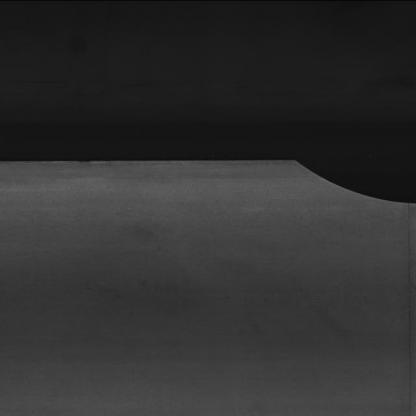crescent_gap: (291, 149, 416, 211)
